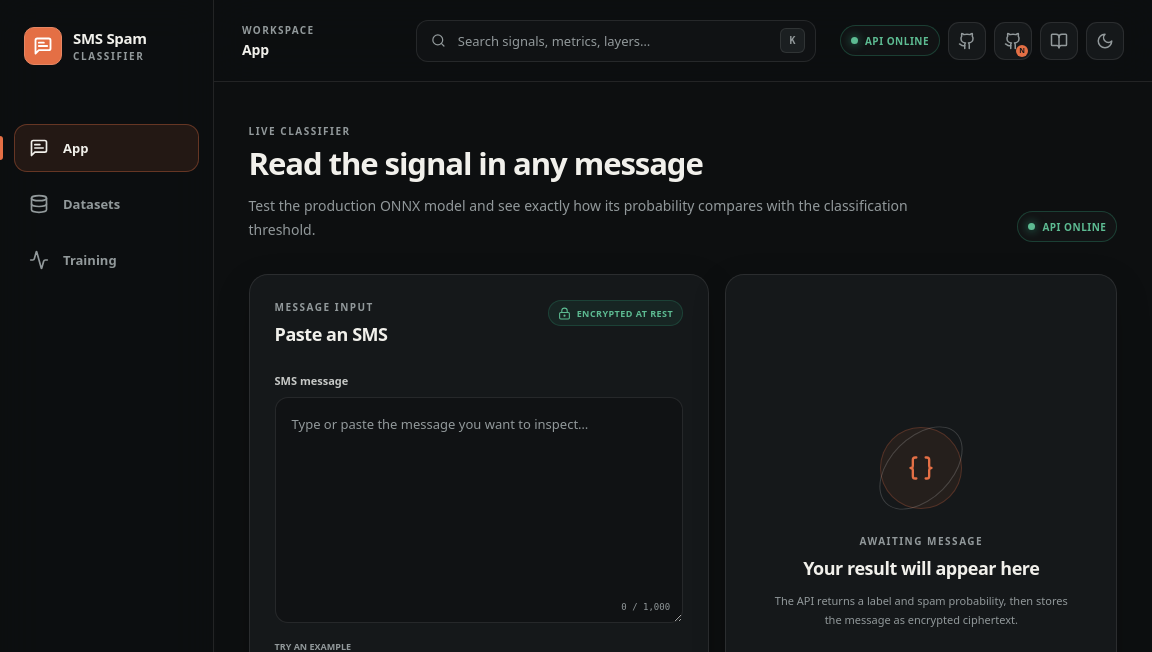
Scenario: workspace navigation and controls › switches between App, Datasets, and Training
The width and height of the screenshot is (1152, 652).
Step 1. Click the link "Datasets" → (75, 204), box left=29, top=194, right=120, bottom=214
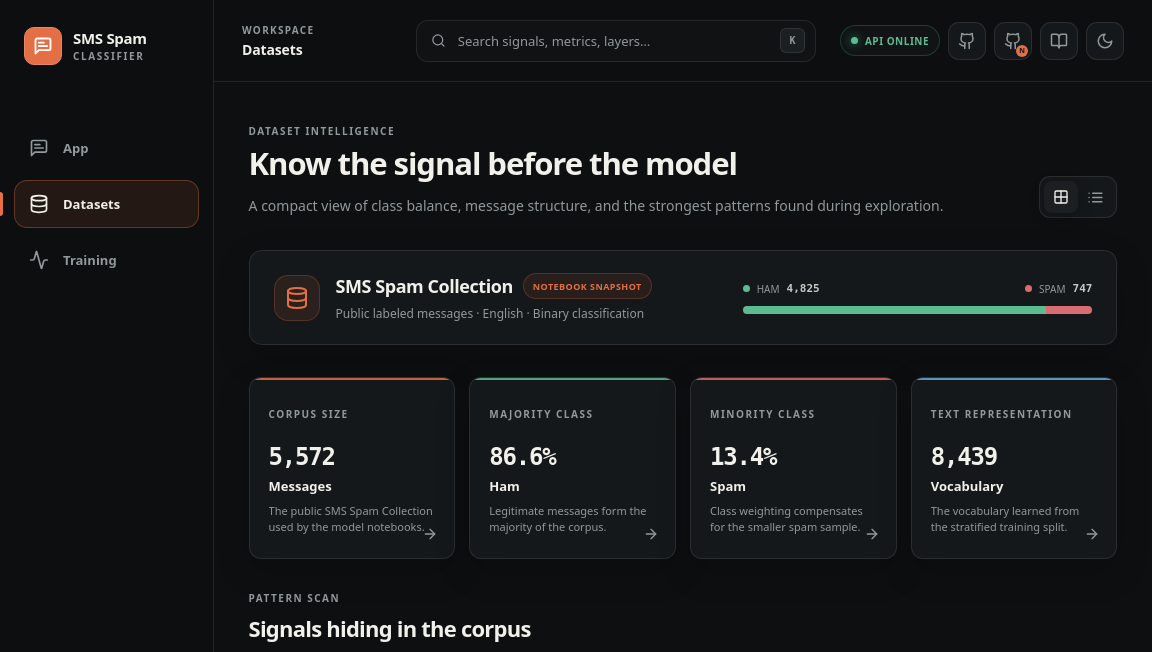
expect the heading "Know the signal before the model" is shown: met, box left=248, top=142, right=737, bottom=184
Step 2. Click the link "Training" → (73, 260), box left=29, top=250, right=117, bottom=270
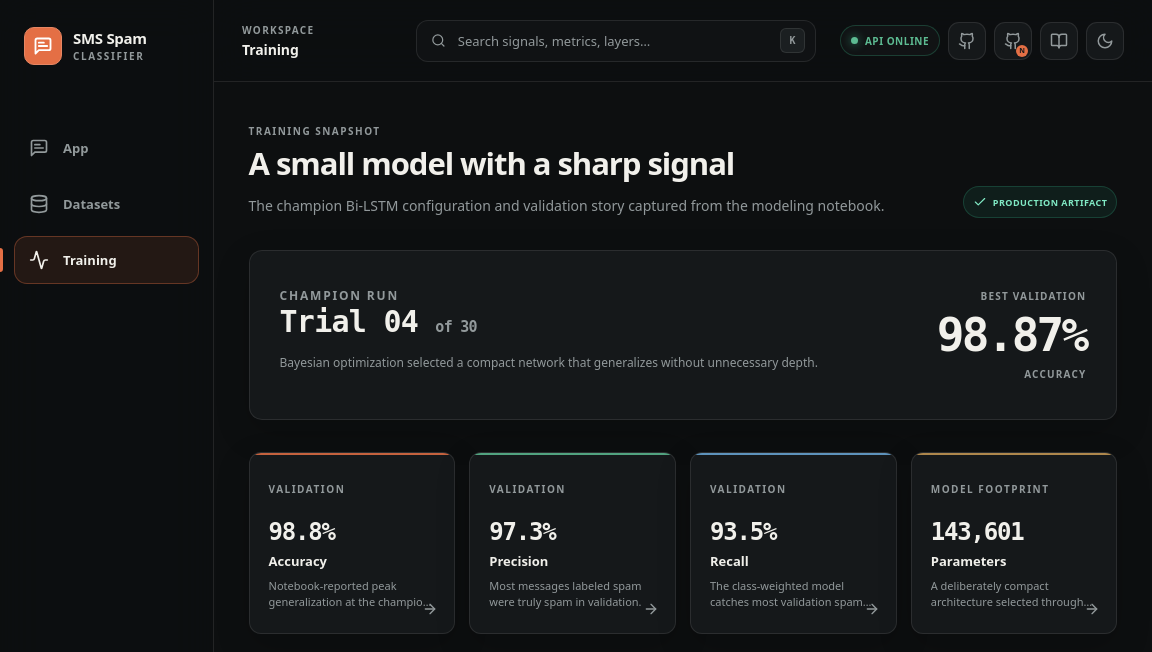
expect the heading "A small model with a sharp signal" is shown: met, box left=248, top=142, right=734, bottom=184
